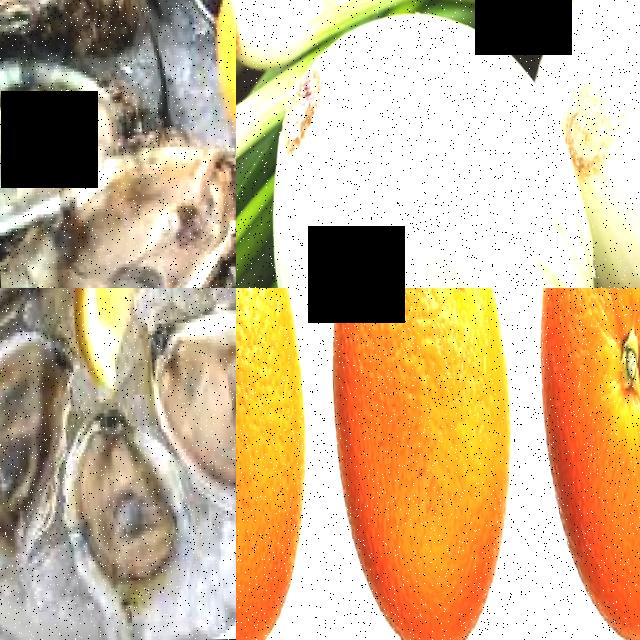lemon: (61, 288, 152, 384)
onion: (256, 10, 585, 288), (552, 0, 640, 269)
orange: (311, 288, 521, 640), (521, 288, 640, 640), (236, 288, 315, 640)
oysters: (51, 415, 184, 630), (72, 128, 236, 288), (0, 44, 131, 235), (147, 307, 236, 522), (0, 331, 73, 563), (0, 0, 126, 62)
